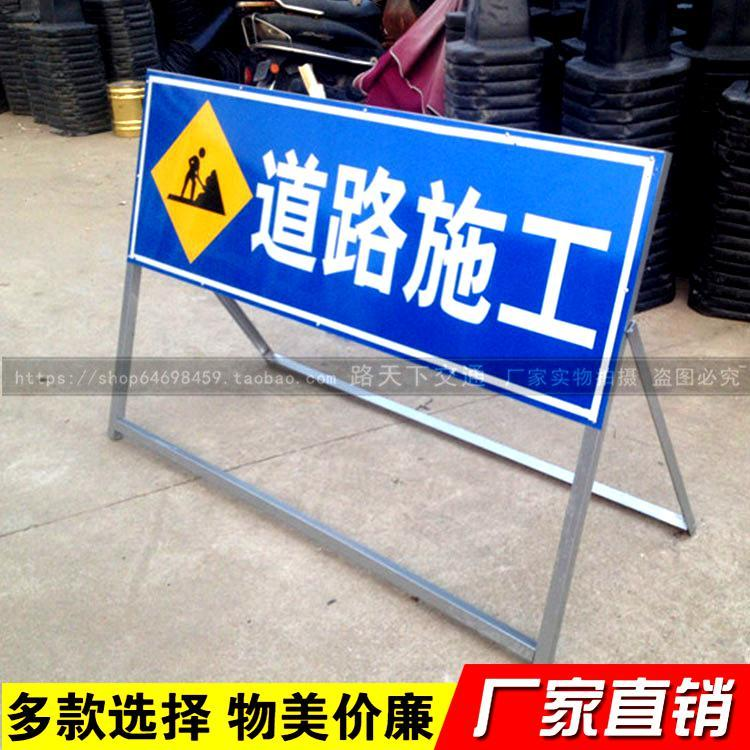sign: (121, 65, 681, 431)
